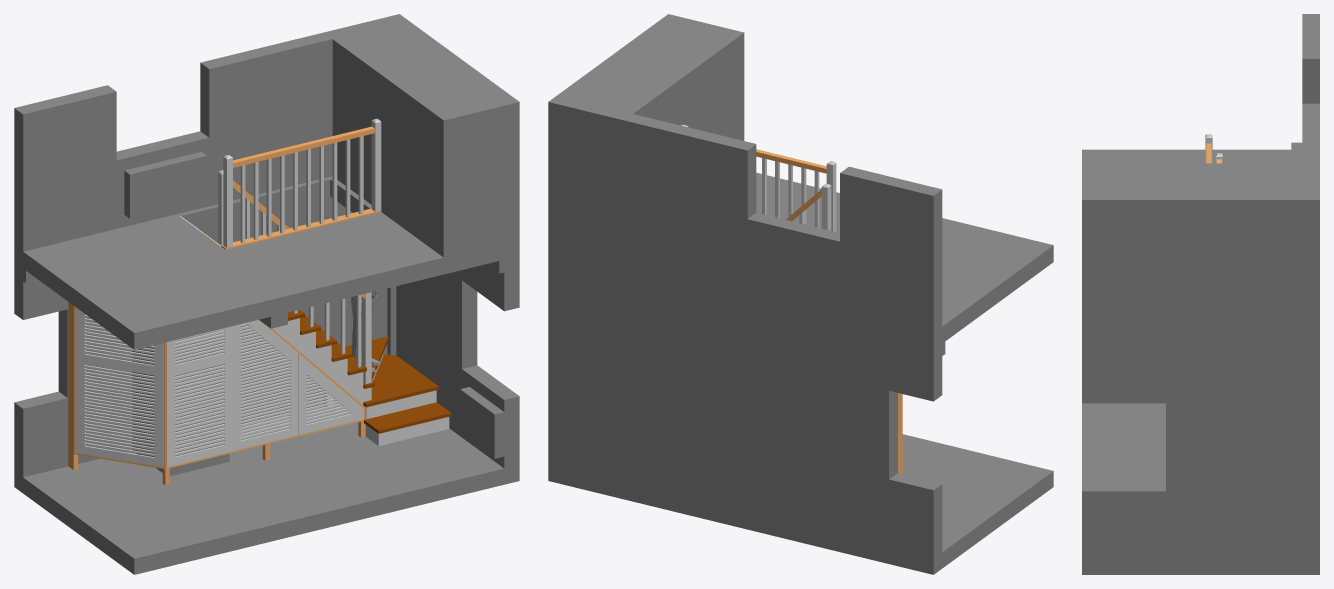
The model's file is 3D Сборка 1.obj.
The picture shows the model from 3 angles, left to right: view 1: azimuth 30°, elevation 25°; view 2: azimuth 150°, elevation 25°; view 3: azimuth 270°, elevation 25°; orthographic projection.
Size of the model in its own units: 5 by 4.7 by 2.7.
